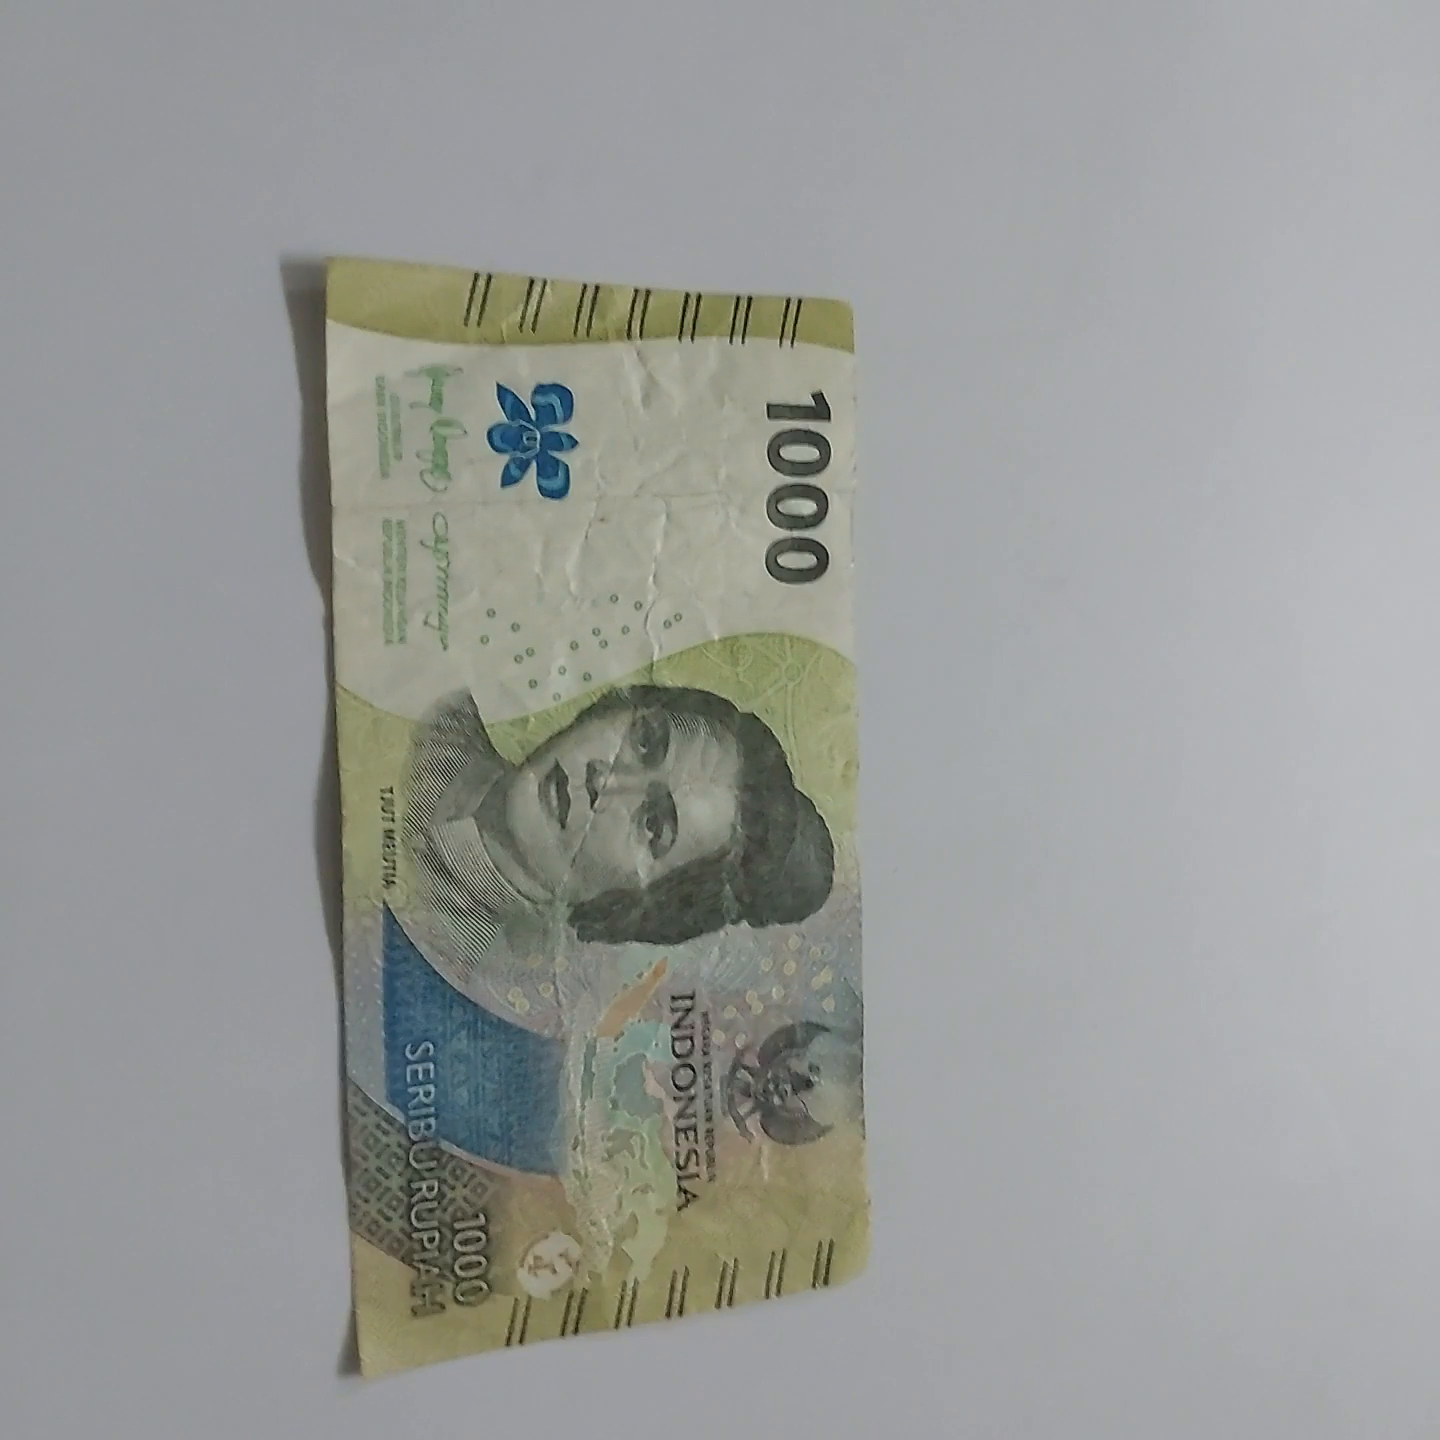1k: (232, 222, 949, 1394)
